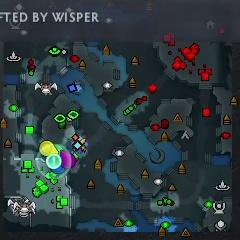Other: (72, 135, 88, 154), (47, 154, 61, 168)
p1: (53, 165, 63, 174)
p3: (61, 148, 75, 169)
p4: (41, 139, 57, 156)
